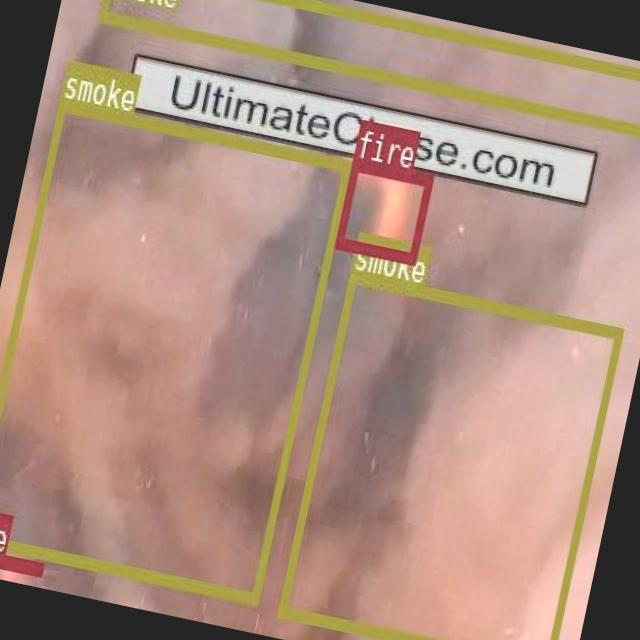fire: (333, 158, 432, 262), (0, 539, 43, 574)
smoke: (0, 97, 350, 602), (275, 268, 622, 640), (96, 0, 640, 141)
